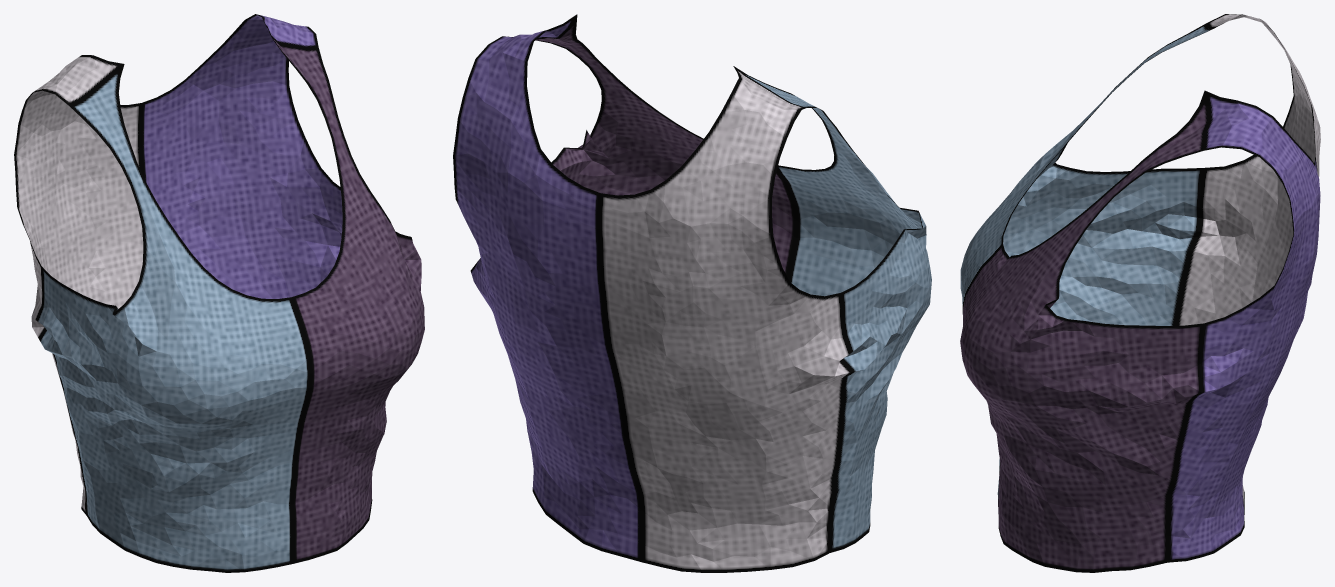
The model's file is tank_knit4_s40_noarm_sim.obj.
3 renders of one model, left to right at view 1: azimuth 30°, elevation 25°; view 2: azimuth 150°, elevation 25°; view 3: azimuth 270°, elevation 25°, orthographic. The views are drawn at different scales.
Size of the model in its own units: 22.42 by 29.14 by 20.37.
Materials: 1 (1 with a texture image).
